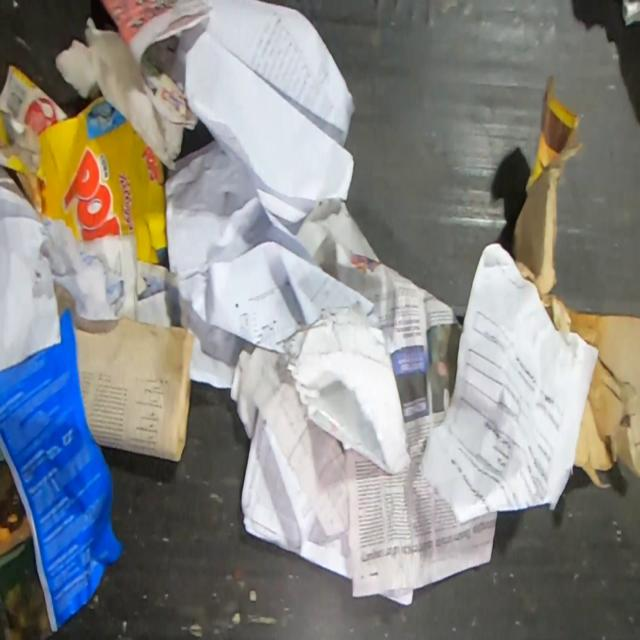cardboard: (512, 74, 640, 489), (0, 64, 170, 273)
